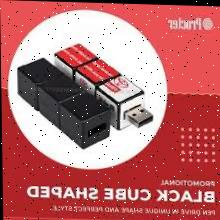cube: (57, 94, 111, 150)
